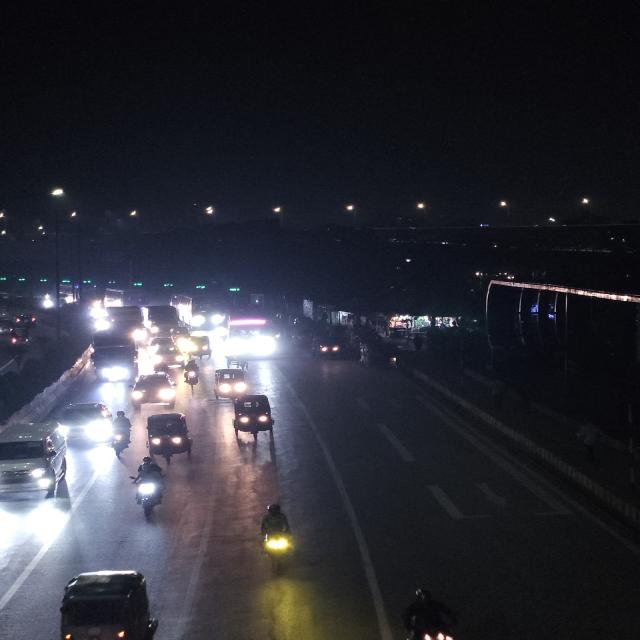bus: (223, 314, 275, 356), (180, 293, 224, 330)
car: (0, 418, 71, 508), (47, 395, 109, 451), (125, 372, 178, 410), (152, 346, 186, 367)
cng: (136, 413, 201, 457), (225, 396, 280, 441), (211, 368, 246, 401), (312, 331, 343, 363), (187, 337, 215, 361)
motorcycle: (241, 500, 301, 580), (131, 455, 173, 529), (108, 410, 137, 461), (175, 359, 206, 400)
rickshaw: (221, 353, 253, 369)
truck: (90, 333, 141, 384), (104, 306, 144, 334), (145, 306, 174, 333)
